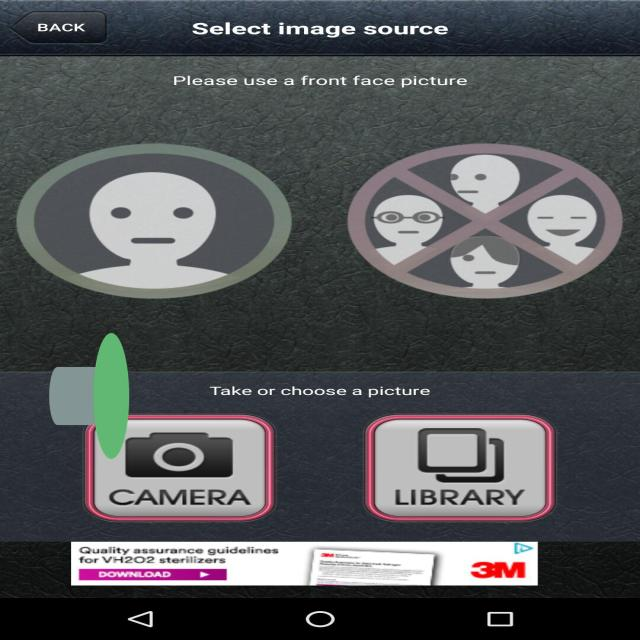social proof: (49, 256, 129, 536)
